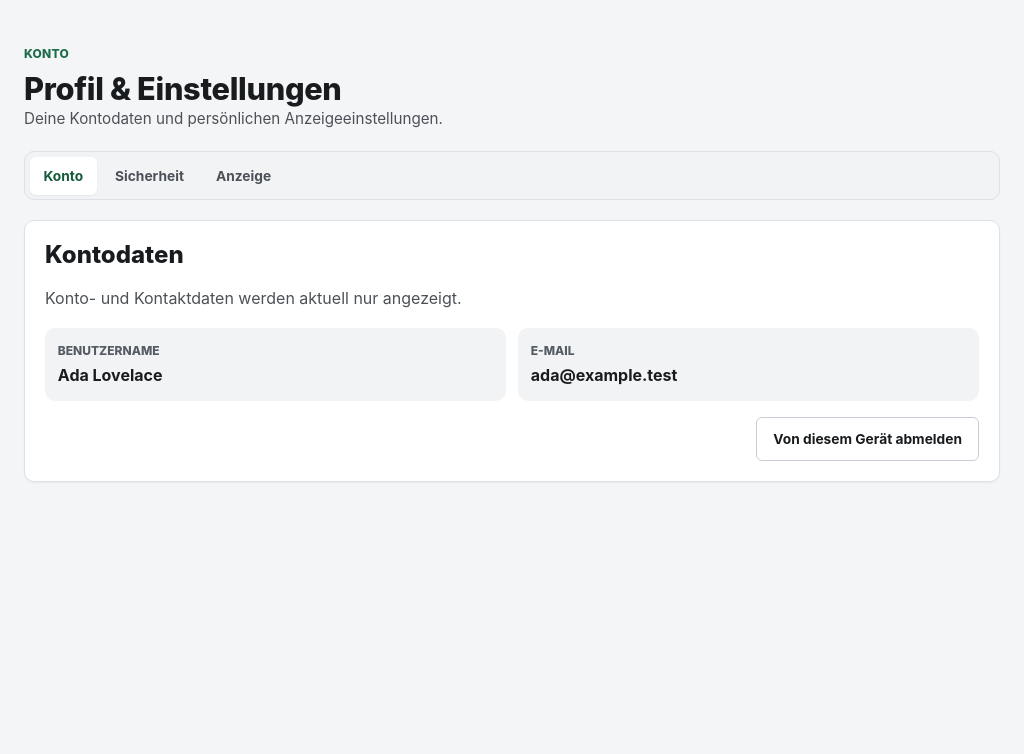
Test: ProfileView › requests an e-mail change, shows the resulting open request and its dev-preview confirm link
The image size is (1024, 754).
Click the tab "Sicherheit": (150, 176) 102,157 -> 198,195
(page scrolled)
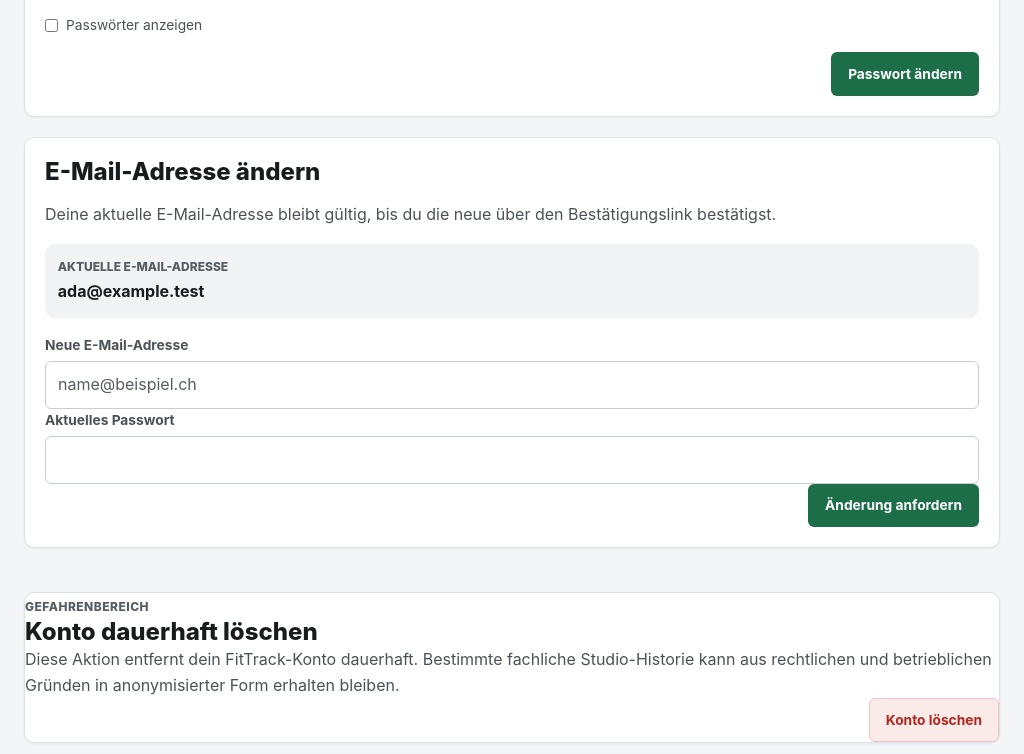
In the field with id "new-email": (512, 385) 45,361 -> 979,409, type "new@example.test"
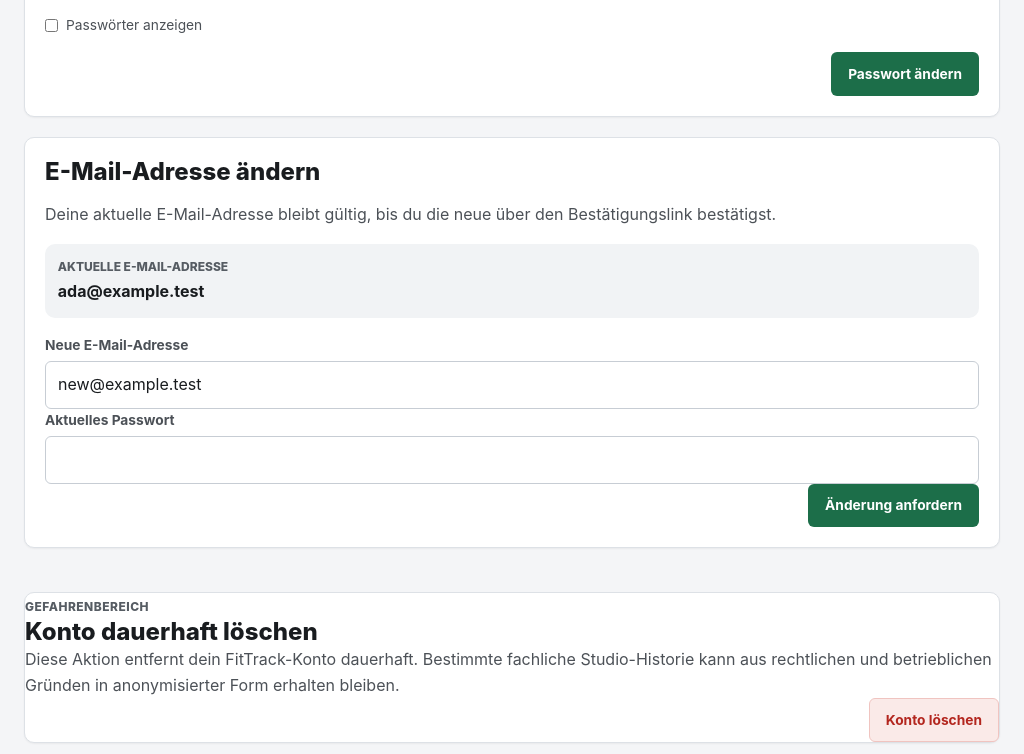
In the password field with id "email-change-password": (512, 460) 45,436 -> 979,484, type "current-password"
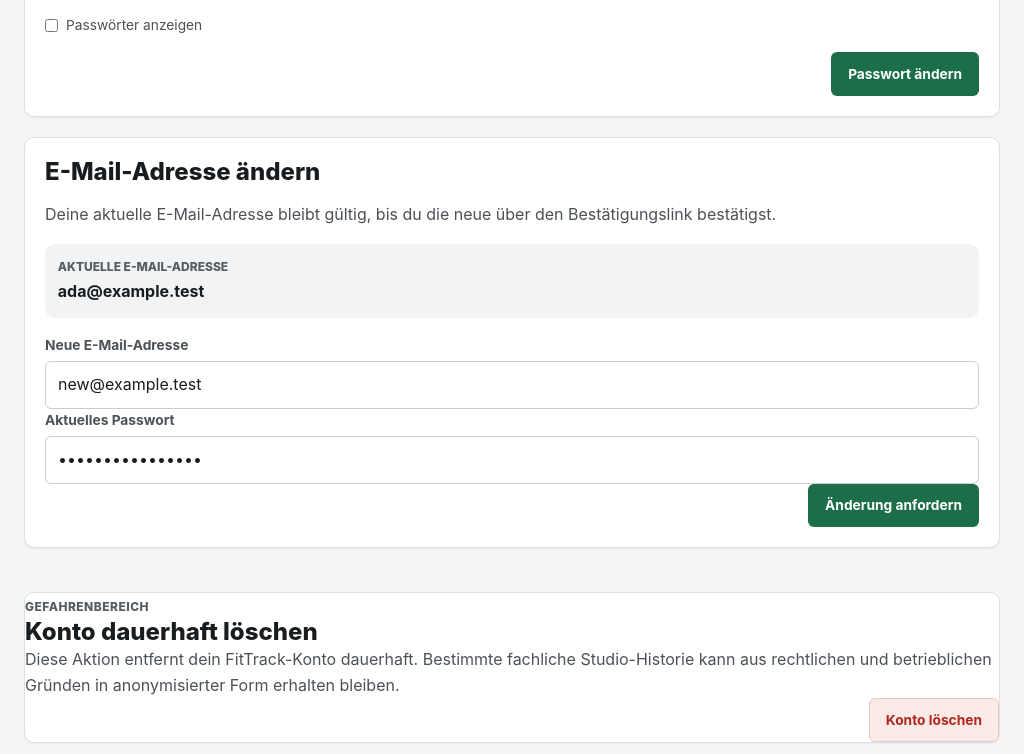
Submit the form "Neue E-Mail-Adresse Aktuelles Passwort Änderung anfordern", box 45,334 -> 979,527
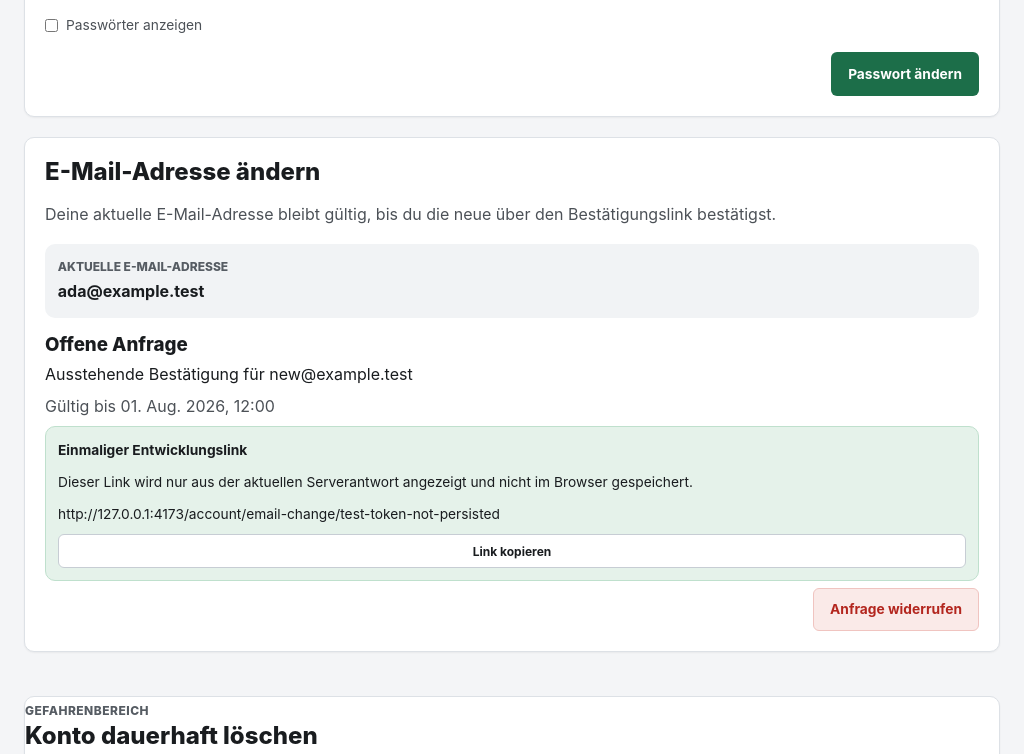
Expected: the text "new@example.test" is shown, 45,364 -> 413,384
Expected: the element with class "studio-delivery" shows "http://127.0.0.1:4173/account/email-change/test-token-not-persisted", 58,503 -> 966,525
